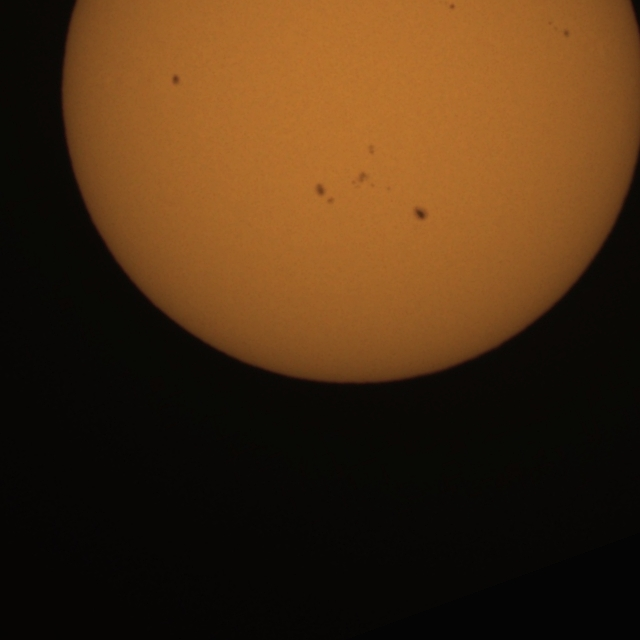sunspot: (314, 182, 336, 206), (350, 171, 376, 189), (548, 21, 570, 39), (412, 205, 430, 223), (170, 73, 181, 88), (354, 172, 367, 184), (367, 143, 376, 156), (562, 28, 571, 39), (448, 2, 457, 11)
